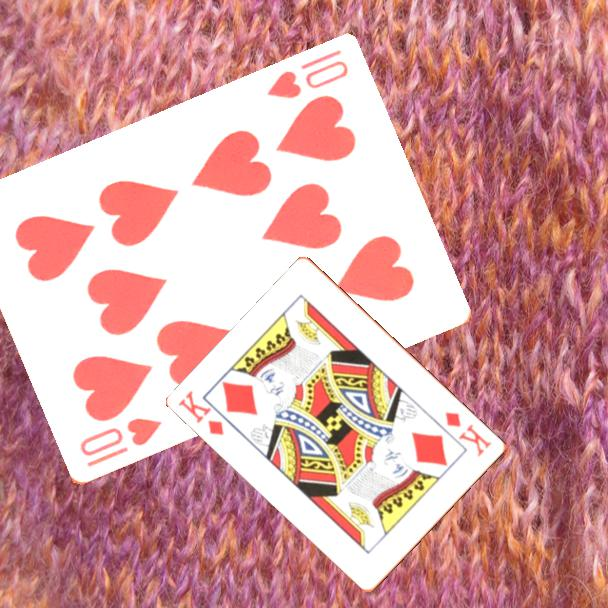d13: (442, 408, 495, 460), (175, 387, 228, 439)
h10: (76, 414, 165, 471), (263, 46, 351, 103)
